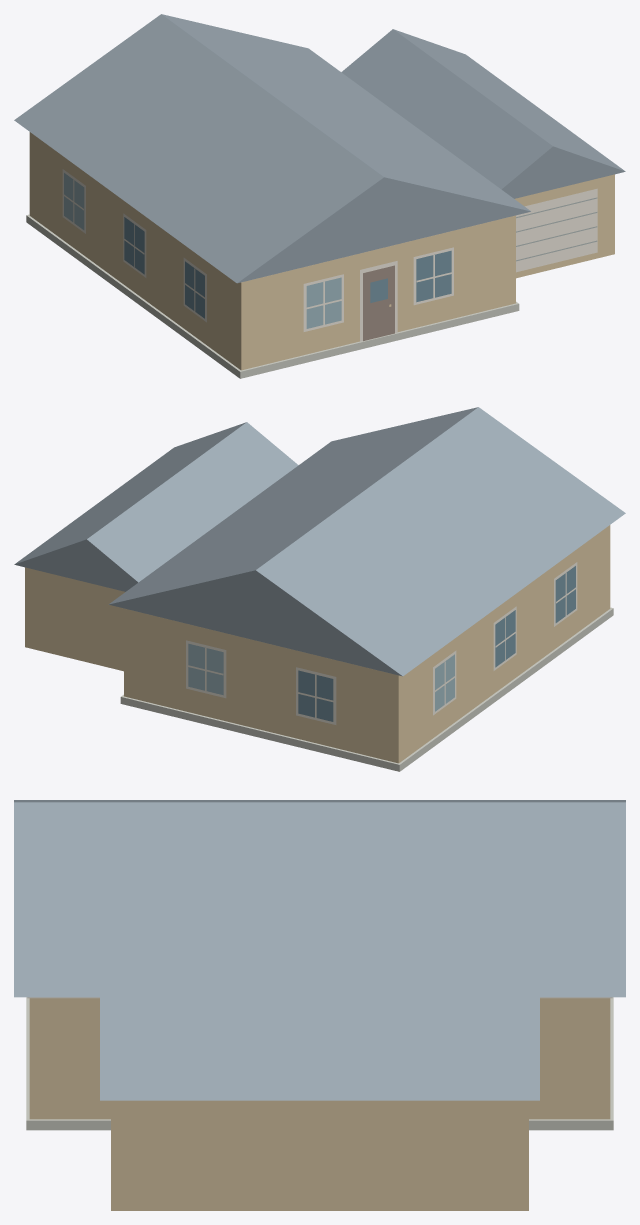
File: house-l-shaped.glb
The picture shows the model from 3 angles, top to bottom: view 1: azimuth 30°, elevation 25°; view 2: azimuth 150°, elevation 25°; view 3: azimuth 270°, elevation 25°; orthographic projection. The views are drawn at different scales.
Visible parts, largest first — view 1: house-l-shaped; view 2: house-l-shaped; view 3: house-l-shaped.
Boxes of the visible parts, box(x1,y1,x2,y2) form: house-l-shaped: box(14, 14, 625, 378); house-l-shaped: box(14, 407, 625, 771); house-l-shaped: box(14, 800, 625, 1210).
Bounding box in the file's own units: 13.77 × 5.35 × 12.65.
